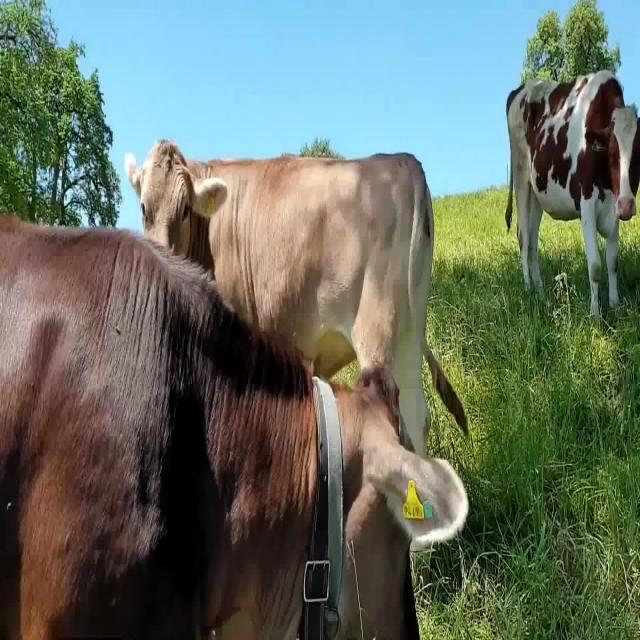COW: (0, 216, 469, 639), (126, 140, 434, 452), (506, 71, 640, 314)
